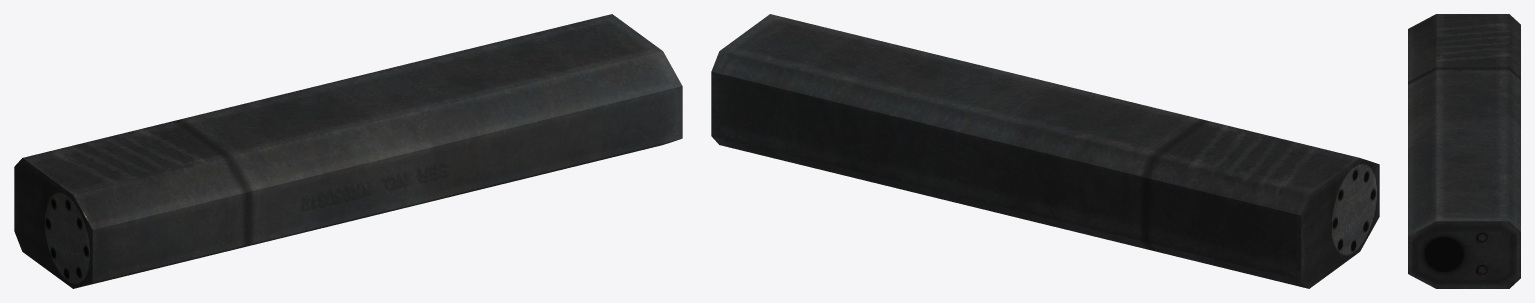
The model's file is t6_attach_pistol_silencer_world_LOD0.obj.
3 renders of one model, left to right at view 1: azimuth 30°, elevation 25°; view 2: azimuth 150°, elevation 25°; view 3: azimuth 270°, elevation 25°, orthographic. The views are drawn at different scales.
Visible parts, largest first — view 1: mtl_t6_attach_pistol_silencer; view 2: mtl_t6_attach_pistol_silencer; view 3: mtl_t6_attach_pistol_silencer.
Part boxes in pixels (<box>): mtl_t6_attach_pistol_silencer: <box>14,14,682,288</box>; mtl_t6_attach_pistol_silencer: <box>711,14,1379,288</box>; mtl_t6_attach_pistol_silencer: <box>1408,14,1520,288</box>.
Bounding box in the file's own units: 17.71 × 2.69 × 4.07.
